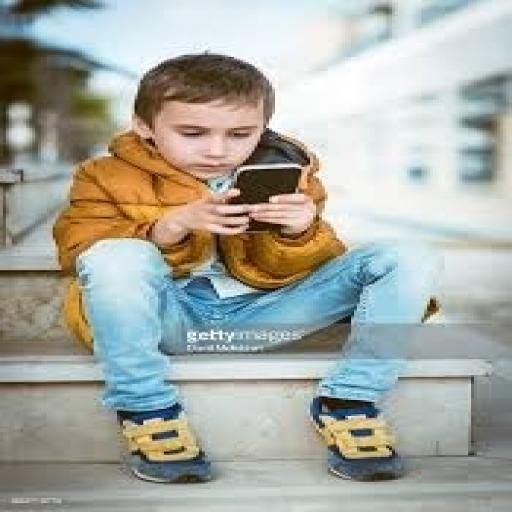texting: (50, 48, 430, 485)
